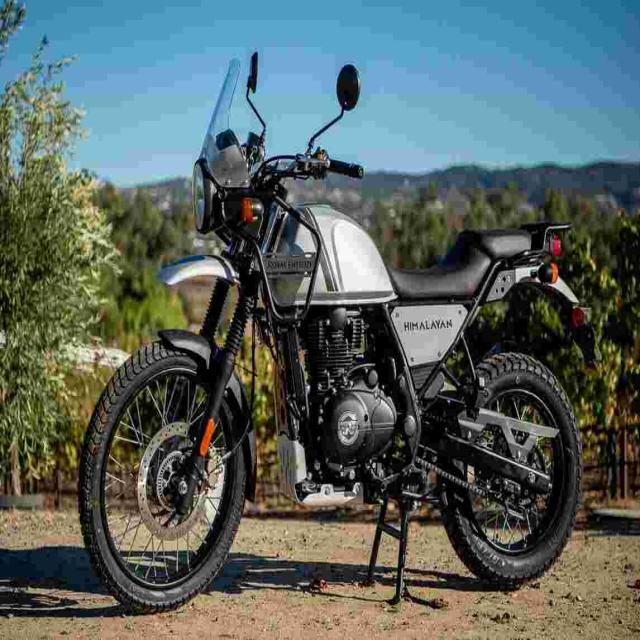motorcycle: (80, 54, 589, 610)
